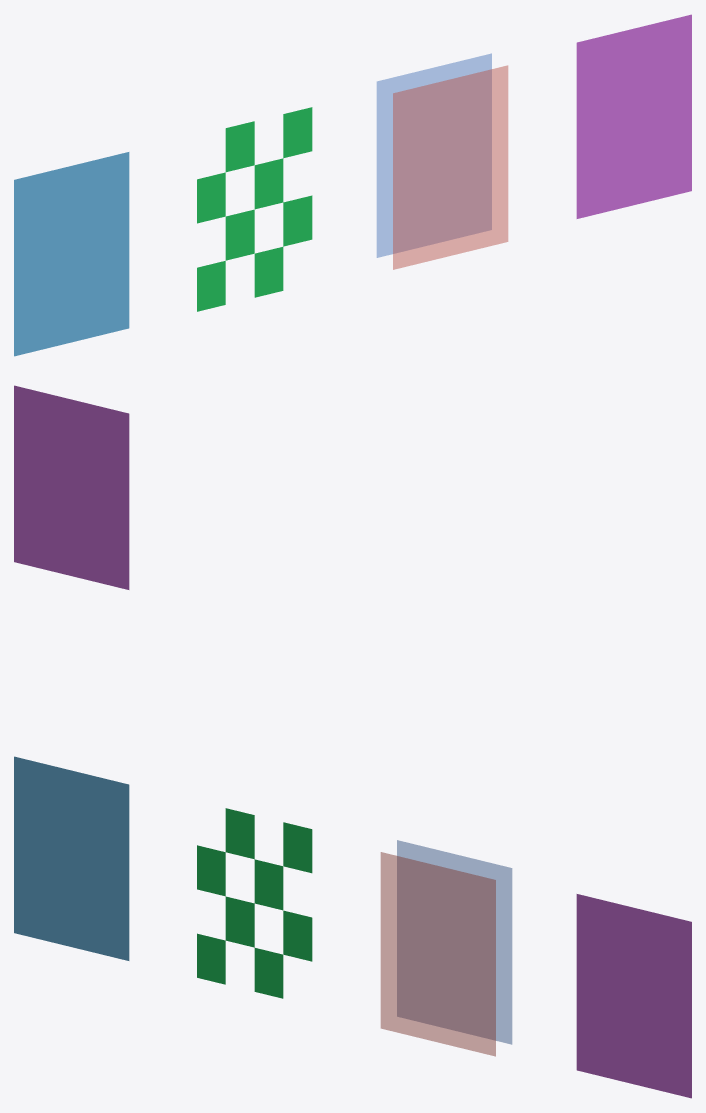
Rendered from material_alpha_showcase.glb.
The picture shows the model from 3 angles, top to bottom: view 1: azimuth 30°, elevation 25°; view 2: azimuth 150°, elevation 25°; view 3: azimuth 330°, elevation 25°; orthographic projection.
Parts seen in each view (by area): view 1: Alpha Material Showcase; view 2: Alpha Material Showcase; view 3: Alpha Material Showcase.
Boxes of the visible parts, x1=… form: Alpha Material Showcase: x1=14, y1=14, x2=691, y2=356; Alpha Material Showcase: x1=14, y1=385, x2=129, y2=589; Alpha Material Showcase: x1=14, y1=756, x2=691, y2=1098.
Size of the model in its own units: 9.64 by 2.4 by 0.4.
Materials: 5 (1 with a texture image).
